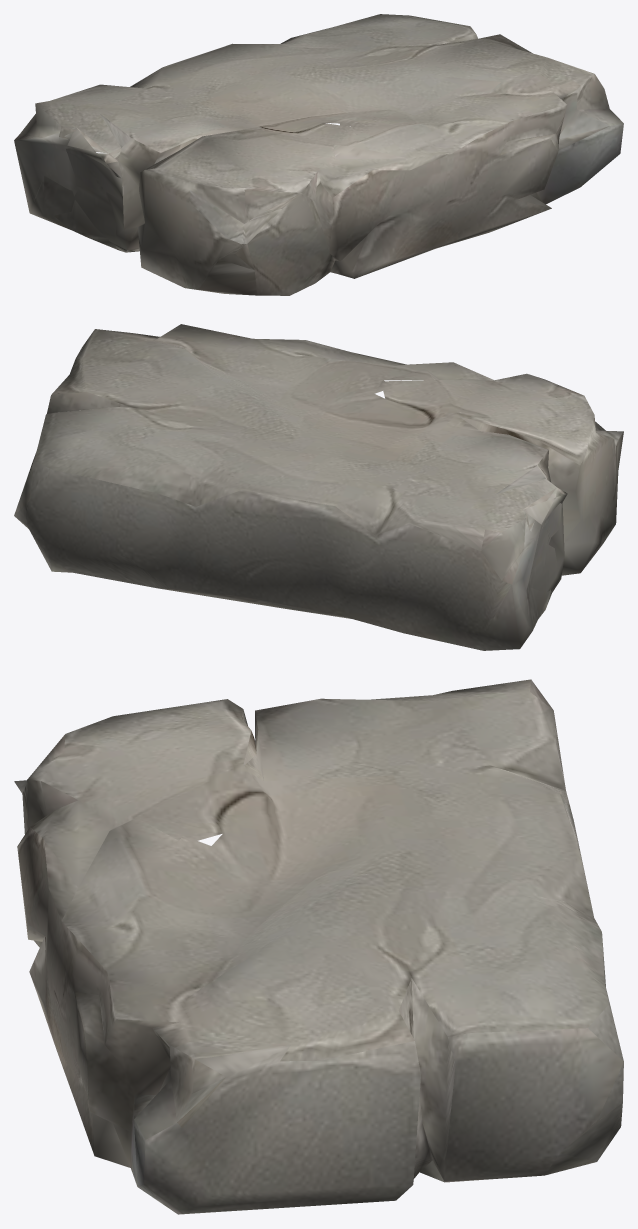
File: rock_small_flat.gltf
3 views of the same model, one above another, from view 1: azimuth 30°, elevation 25°; view 2: azimuth 150°, elevation 25°; view 3: azimuth 270°, elevation 25° (orthographic). The views are drawn at different scales.
Parts seen in each view (by area): view 1: rock_small_flat; view 2: rock_small_flat; view 3: rock_small_flat.
Part boxes in pixels (x1=…): rock_small_flat: x1=14, y1=14, x2=623, y2=295; rock_small_flat: x1=14, y1=324, x2=623, y2=650; rock_small_flat: x1=14, y1=679, x2=623, y2=1214.
Bounding box in the file's own units: 1 × 0.2345 × 0.6581.
Materials: 1 (1 with a texture image).
